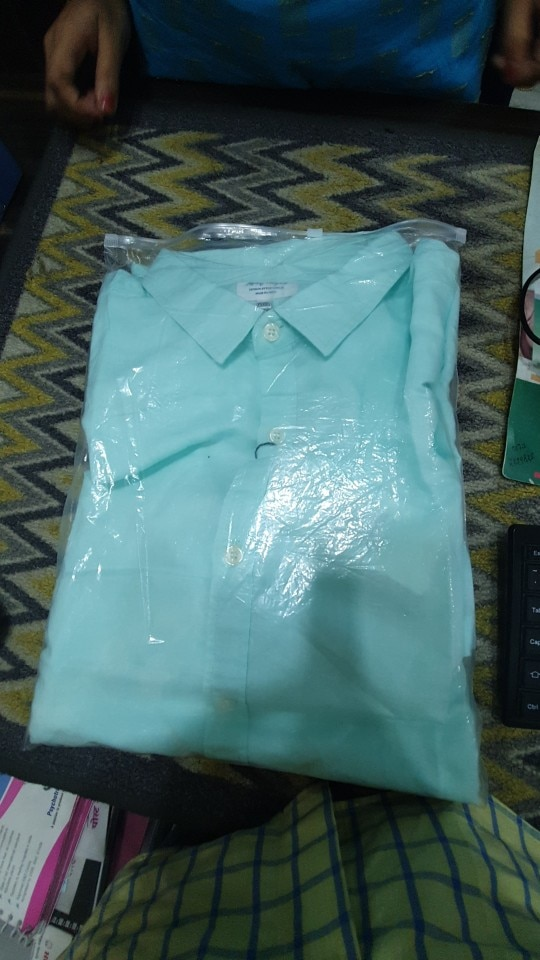shirts: (63, 233, 462, 790)
